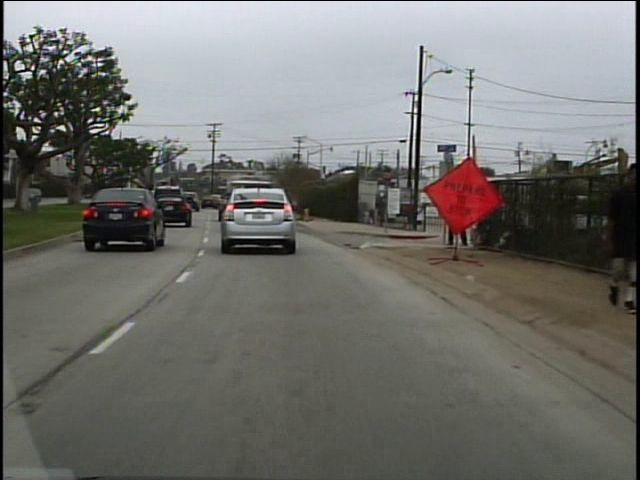person: (440, 183, 476, 251)
